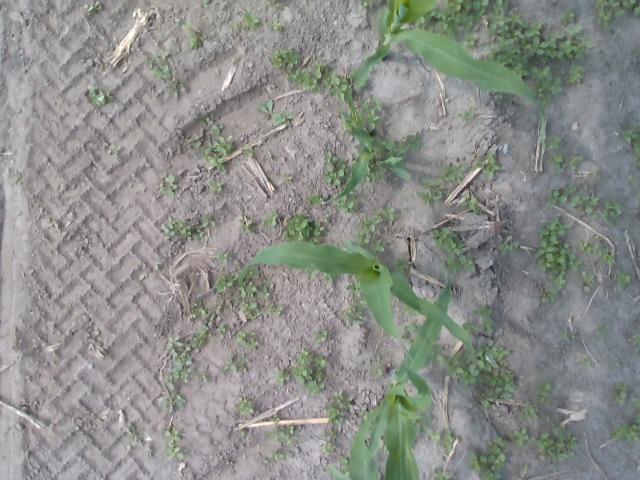Maize: (238, 240, 478, 363), (328, 257, 451, 480), (352, 0, 544, 121), (321, 82, 414, 204)
Weeds: (489, 10, 594, 65), (438, 340, 516, 409), (160, 323, 210, 412), (436, 0, 508, 47), (536, 218, 582, 290), (216, 282, 283, 320), (534, 416, 578, 462), (434, 228, 476, 274), (467, 436, 506, 480), (290, 348, 324, 395), (356, 204, 394, 244), (596, 0, 640, 30), (158, 217, 204, 243), (530, 66, 562, 102), (119, 422, 154, 454), (204, 135, 233, 173), (264, 416, 298, 448), (324, 389, 352, 424), (322, 150, 348, 186), (282, 212, 313, 242), (461, 305, 495, 332), (358, 94, 382, 132), (286, 69, 320, 94), (323, 68, 347, 100), (473, 152, 500, 180), (342, 297, 368, 326), (146, 49, 170, 80), (612, 414, 640, 440), (256, 96, 282, 120), (270, 46, 298, 68), (625, 125, 640, 166), (436, 163, 464, 184), (570, 195, 598, 215), (548, 187, 579, 204), (460, 192, 482, 214), (236, 330, 258, 352), (158, 171, 177, 196), (200, 117, 226, 134), (416, 190, 441, 207), (216, 272, 237, 292), (593, 244, 612, 266), (536, 380, 553, 404), (438, 428, 454, 452), (509, 428, 528, 448), (272, 367, 292, 386), (567, 64, 585, 84), (548, 154, 566, 174), (189, 300, 209, 318), (612, 382, 628, 404), (521, 403, 539, 422), (382, 140, 406, 154), (236, 397, 253, 416), (603, 202, 623, 218), (458, 106, 478, 122), (91, 91, 113, 105), (368, 164, 386, 181), (406, 131, 422, 150), (166, 446, 185, 461), (417, 16, 434, 32), (262, 452, 284, 464), (243, 10, 259, 26), (338, 196, 354, 212), (278, 110, 294, 125), (165, 430, 180, 446), (236, 352, 248, 372), (394, 257, 409, 273), (238, 216, 252, 233), (434, 467, 452, 480), (582, 273, 594, 292), (545, 135, 561, 149), (313, 61, 326, 78), (200, 364, 212, 382), (514, 63, 528, 78), (346, 280, 361, 294), (618, 270, 631, 286), (500, 241, 518, 252), (570, 156, 584, 170), (221, 358, 235, 372), (264, 212, 278, 226), (540, 290, 556, 302), (404, 324, 423, 334), (189, 35, 202, 49), (208, 181, 224, 192), (314, 330, 327, 343), (369, 367, 385, 377), (429, 430, 441, 443), (202, 216, 216, 227), (372, 239, 383, 253), (187, 139, 202, 149), (216, 252, 228, 264), (314, 221, 324, 235), (325, 272, 336, 284), (264, 0, 280, 8), (178, 78, 187, 92), (216, 324, 227, 335), (422, 178, 434, 188), (182, 18, 192, 30), (628, 176, 640, 186), (580, 240, 590, 252), (598, 326, 610, 336), (308, 196, 322, 204), (518, 464, 528, 475), (433, 184, 442, 196), (242, 147, 254, 156), (87, 84, 97, 94), (270, 22, 282, 30), (173, 82, 178, 100), (631, 334, 640, 344), (282, 172, 292, 181), (560, 331, 568, 341), (630, 398, 640, 406), (592, 168, 600, 176), (325, 446, 337, 451), (310, 236, 318, 243), (15, 176, 22, 184), (110, 145, 121, 150), (86, 4, 94, 10), (202, 0, 208, 7), (234, 22, 240, 29), (634, 192, 640, 198), (584, 360, 590, 366), (376, 355, 381, 362), (331, 431, 336, 438), (95, 417, 102, 422), (268, 150, 272, 158), (592, 180, 598, 185), (240, 430, 244, 437), (325, 214, 328, 222), (46, 218, 50, 222), (551, 0, 556, 3)
